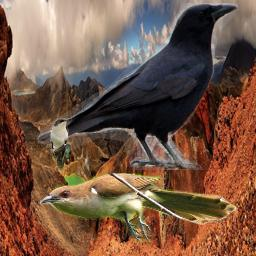Crow: (37, 3, 238, 170)
Cuckoo: (40, 173, 238, 242), (50, 118, 72, 170)
